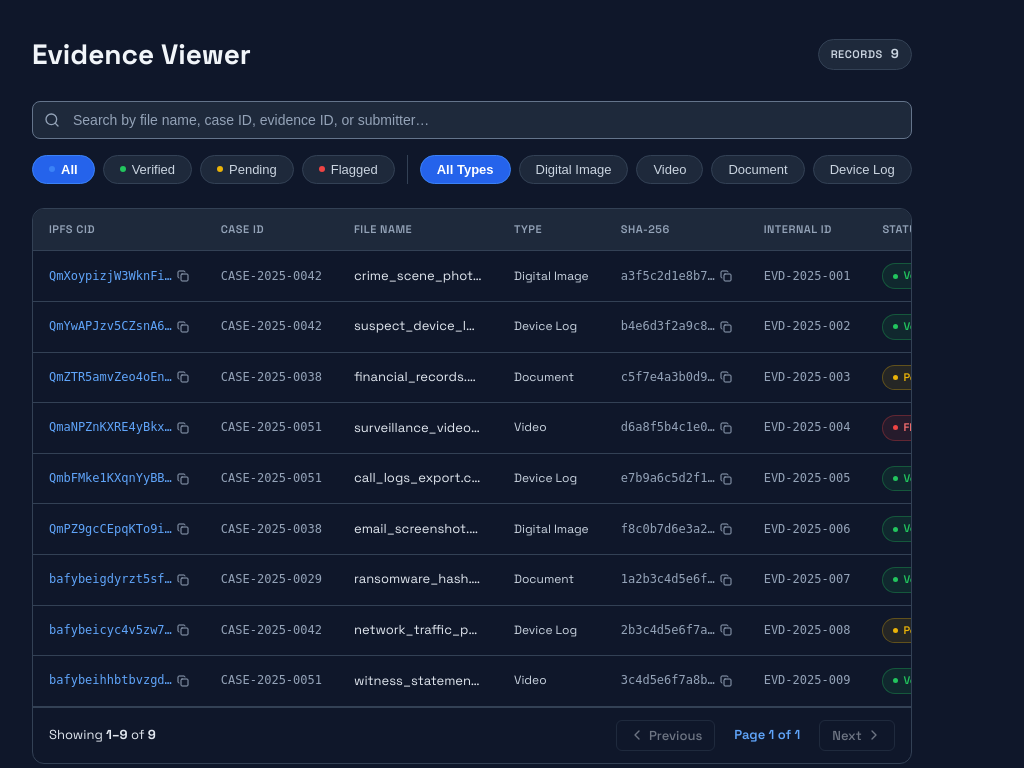
it: EvidenceViewer (demo) › table, search and filters › labels the search box and the filter groups, and filters rows
The width and height of the screenshot is (1024, 768).
Check: the element named "Filter by type" is shown, box [420,155,912,184]
Click the button "Pending": (247, 169) [200,155,294,184]
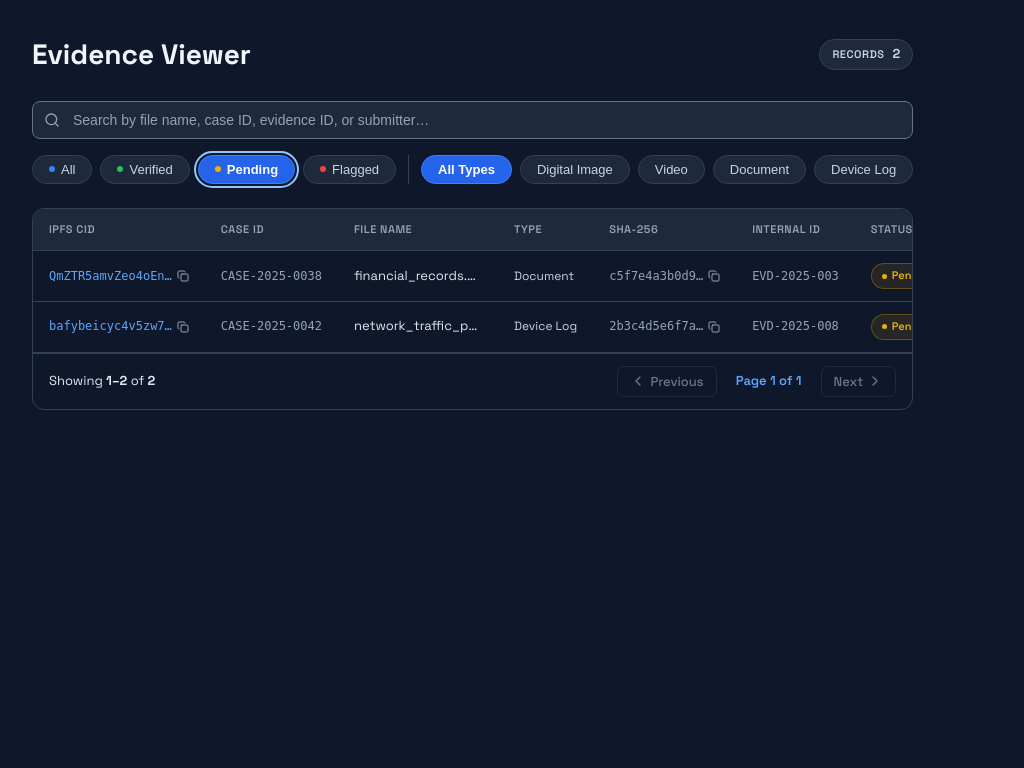
Check: the number of rows is 3, box [33,209,912,251]; [33,251,912,302]; [33,302,912,352]
Check: the button "Pending" is pressed, box [198,155,295,184]
Click the button "All": (62, 169) [32,155,92,184]
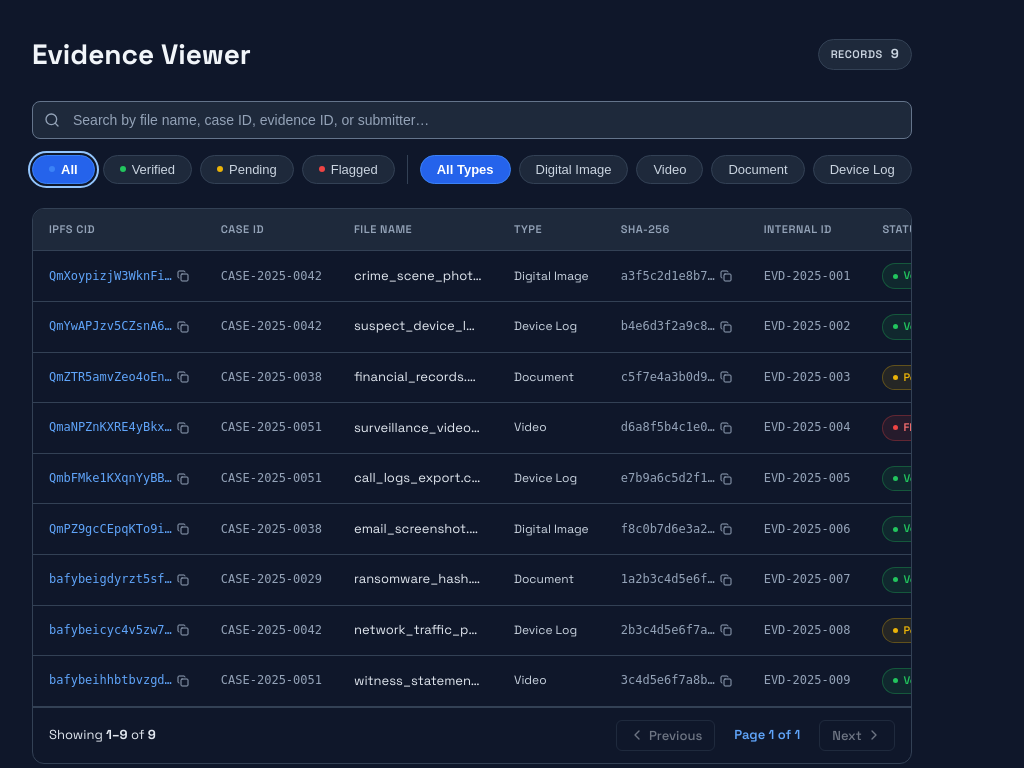
In the field named "search evidence": (472, 120) [32,101,912,139], type "no-such-evidence"
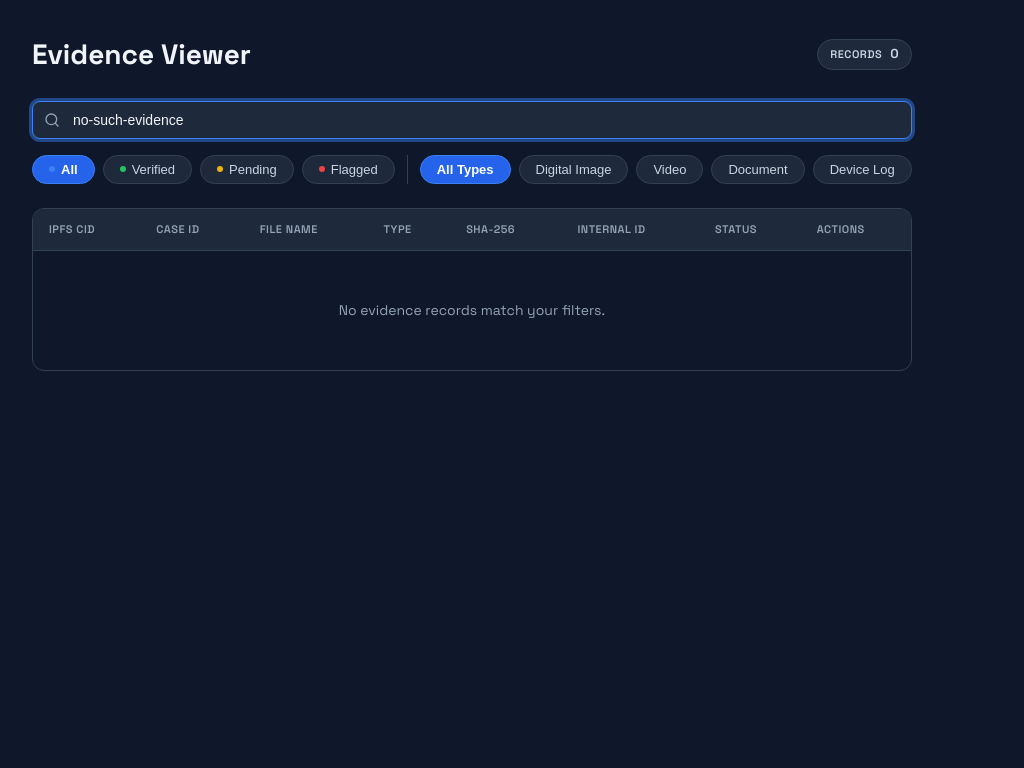
Check: the text "No evidence records match your filters." is shown, box [33,251,911,370]
